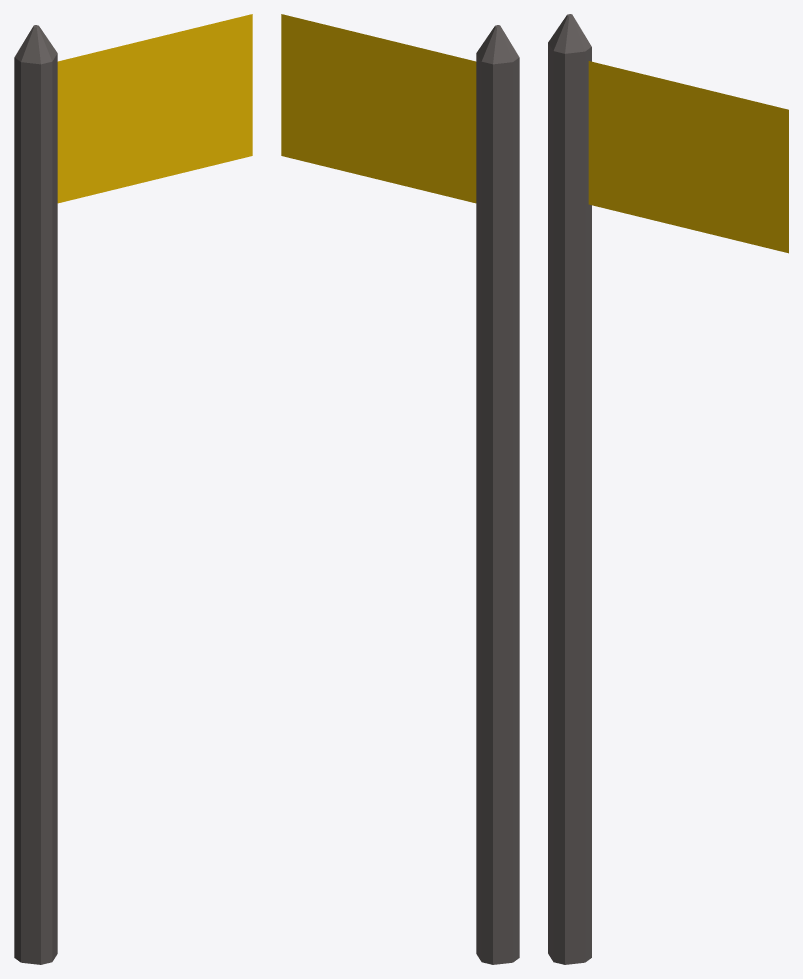
Rendered from CheckPoint.fbx.
3 views of the same model, side by side, from view 1: azimuth 30°, elevation 25°; view 2: azimuth 150°, elevation 25°; view 3: azimuth 330°, elevation 25° (orthographic).
Visible parts, largest first — view 1: Cube; view 2: Cube; view 3: Cube.
Part boxes in pixels (x1,y1,x2,y2): Cube: (14,14,252,964); Cube: (281,14,519,964); Cube: (548,14,788,964).
Bounding box in the file's own units: 1280 × 4843 × 200.
